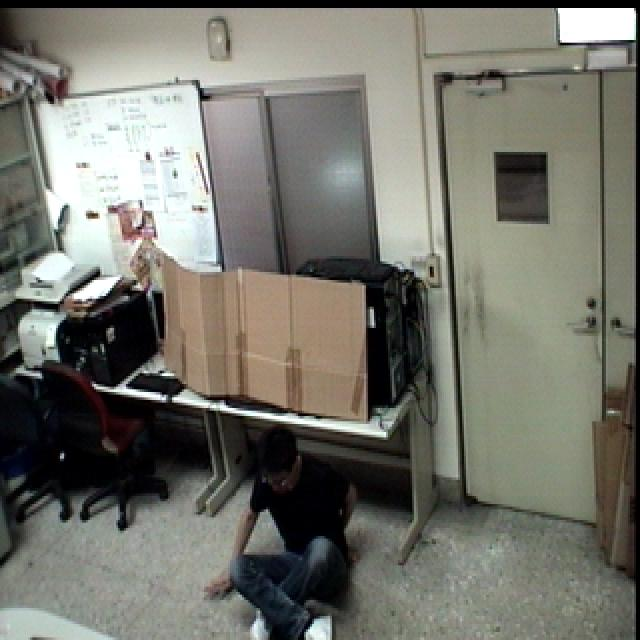sit: (202, 418, 372, 640)
